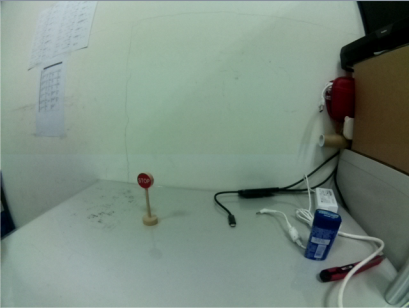Stop: (136, 172, 156, 192)
